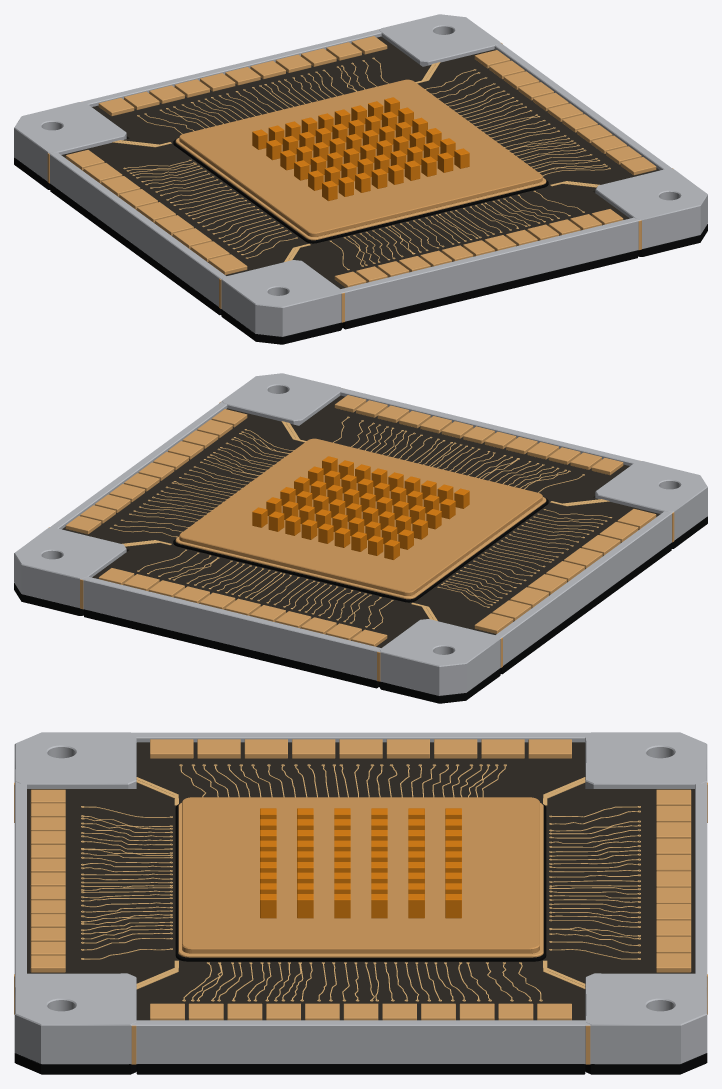
The model's file is MetalChip_v002.glb.
3 renders of one model, top to bottom at view 1: azimuth 30°, elevation 25°; view 2: azimuth 150°, elevation 25°; view 3: azimuth 270°, elevation 25°, orthographic. The views are drawn at different scales.
Parts seen in each view (by area): view 1: Recessed substrate - corner bores kept clear, Continuous brushed silver outer wall, Champagne gold central plate, Corner_NP_Counterbored_Through_Hole, Corner_PP_Counterbored_Through_Hole, Corner_NN_Counterbored_Through_Hole, Corner_PN_Counterbored_Through_Hole, Black ceramic base cross Z, Lower polished gold lip, Black insulating moat under die, Black ceramic base cross X, Black_Base_Corner_NP_Open_Bore (+2 smaller); view 2: Recessed substrate - corner bores kept clear, Continuous brushed silver outer wall, Champagne gold central plate, Corner_NN_Counterbored_Through_Hole, Corner_PN_Counterbored_Through_Hole, Corner_NP_Counterbored_Through_Hole, Corner_PP_Counterbored_Through_Hole, Black ceramic base cross Z, Lower polished gold lip, Black insulating moat under die, Black ceramic base cross X, Black_Base_Corner_NN_Open_Bore (+2 smaller); view 3: Recessed substrate - corner bores kept clear, Champagne gold central plate, Continuous brushed silver outer wall, Corner_PN_Counterbored_Through_Hole, Corner_PP_Counterbored_Through_Hole, Corner_NN_Counterbored_Through_Hole, Corner_NP_Counterbored_Through_Hole, Black ceramic base cross X, Black insulating moat under die, Lower polished gold lip, Black_Base_Corner_PN_Open_Bore, Black_Base_Corner_PP_Open_Bore (+37 smaller).
Part boxes in pixels (x1,y1,x2,y2): Recessed substrate - corner bores kept clear: [61, 36, 659, 288]; Continuous brushed silver outer wall: [14, 29, 707, 336]; Champagne gold central plate: [179, 79, 542, 236]; Corner_NP_Counterbored_Through_Hole: [221, 260, 342, 336]; Corner_PP_Counterbored_Through_Hole: [595, 168, 707, 248]; Corner_NN_Counterbored_Through_Hole: [14, 102, 126, 180]; Corner_PN_Counterbored_Through_Hole: [379, 14, 499, 66]; Black ceramic base cross Z: [343, 250, 637, 329]; Lower polished gold lip: [175, 138, 546, 240]; Black insulating moat under die: [173, 139, 548, 243]; Black ceramic base cross X: [50, 184, 221, 315]; Black_Base_Corner_NP_Open_Bore: [221, 309, 342, 344]; Recessed substrate - corner bores kept clear: [62, 395, 660, 647]; Continuous brushed silver outer wall: [14, 388, 707, 695]; Champagne gold central plate: [179, 438, 542, 595]; Corner_NN_Counterbored_Through_Hole: [379, 619, 500, 695]; Corner_PN_Counterbored_Through_Hole: [14, 527, 126, 606]; Corner_NP_Counterbored_Through_Hole: [595, 461, 707, 539]; Corner_PP_Counterbored_Through_Hole: [222, 373, 342, 425]; Black ceramic base cross Z: [84, 609, 378, 688]; Lower polished gold lip: [175, 497, 546, 599]; Black insulating moat under die: [173, 498, 548, 602]; Black ceramic base cross X: [500, 543, 671, 674]; Black_Base_Corner_NN_Open_Bore: [379, 668, 500, 703]; Recessed substrate - corner bores kept clear: [27, 742, 694, 1020]; Champagne gold central plate: [182, 797, 539, 953]; Continuous brushed silver outer wall: [14, 732, 707, 1064]; Corner_PN_Counterbored_Through_Hole: [585, 973, 707, 1063]; Corner_PP_Counterbored_Through_Hole: [14, 973, 136, 1063]; Corner_NN_Counterbored_Through_Hole: [585, 732, 707, 788]; Corner_NP_Counterbored_Through_Hole: [14, 732, 136, 788]; Black ceramic base cross X: [136, 1064, 585, 1074]; Black insulating moat under die: [175, 803, 546, 961]; Lower polished gold lip: [178, 803, 543, 957]; Black_Base_Corner_PN_Open_Bore: [585, 1053, 707, 1074]; Black_Base_Corner_PP_Open_Bore: [14, 1053, 136, 1074].
Bounding box in the file's own units: 0.1002 × 0.0119 × 0.1002.
